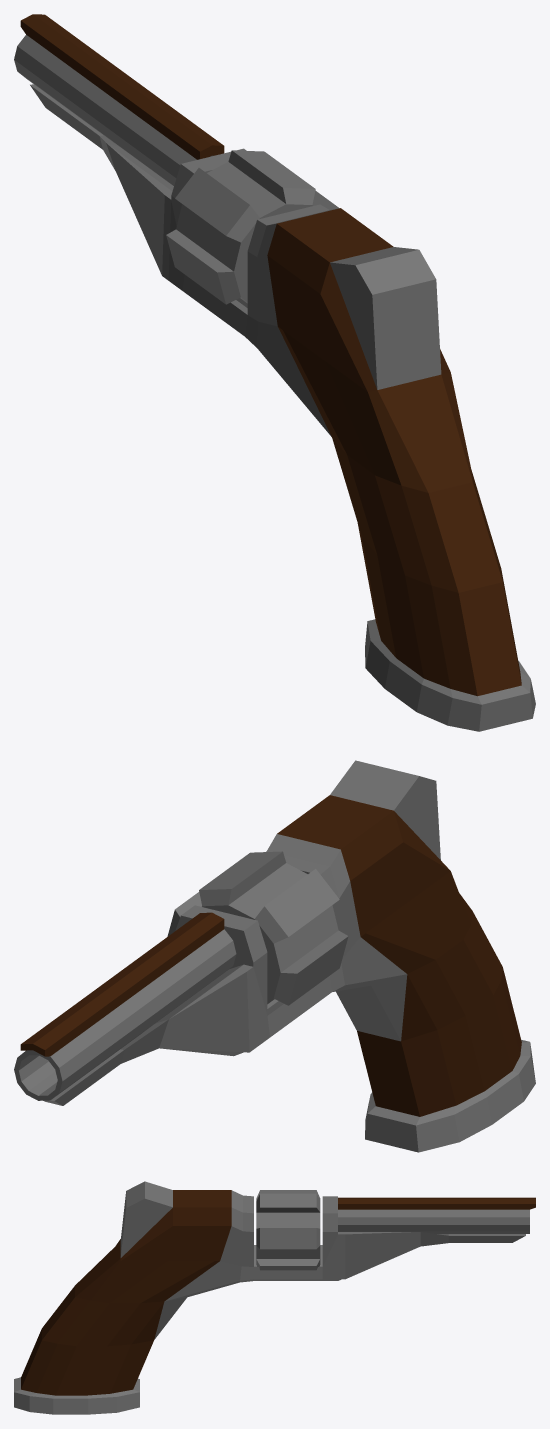
File: Pistol.fbx
3 views of the same model, one above another, from view 1: azimuth 30°, elevation 25°; view 2: azimuth 150°, elevation 25°; view 3: azimuth 270°, elevation 25° (orthographic). The views are drawn at different scales.
Parts seen in each view (by area): view 1: Handle.001, Cylinder.006, Cylinder.005; view 2: Handle.001, Cylinder.006, Cylinder.005; view 3: Handle.001, Cylinder.006, Cylinder.005.
Part boxes in pixels (x1=…): Handle.001: x1=30, y1=84, x2=535, y2=731; Cylinder.006: x1=14, y1=14, x2=224, y2=185; Cylinder.005: x1=166, y1=150, x2=339, y2=307; Handle.001: x1=43, y1=760, x2=535, y2=1152; Cylinder.006: x1=14, y1=912, x2=236, y2=1100; Cylinder.005: x1=167, y1=851, x2=348, y2=1008; Handle.001: x1=14, y1=1181, x2=525, y2=1414; Cylinder.006: x1=338, y1=1197, x2=535, y2=1233; Cylinder.005: x1=256, y1=1190, x2=320, y2=1270.
Size of the model in its own units: 0.0503 by 0.1396 by 0.3142.
